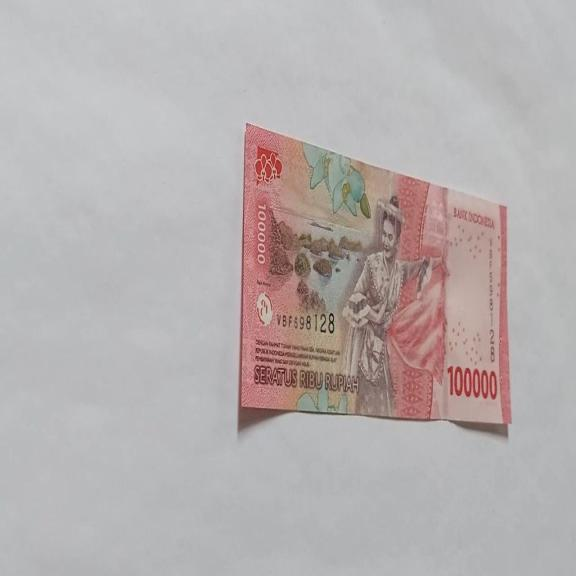Kertas: (238, 122, 511, 430), (446, 363, 498, 401)
